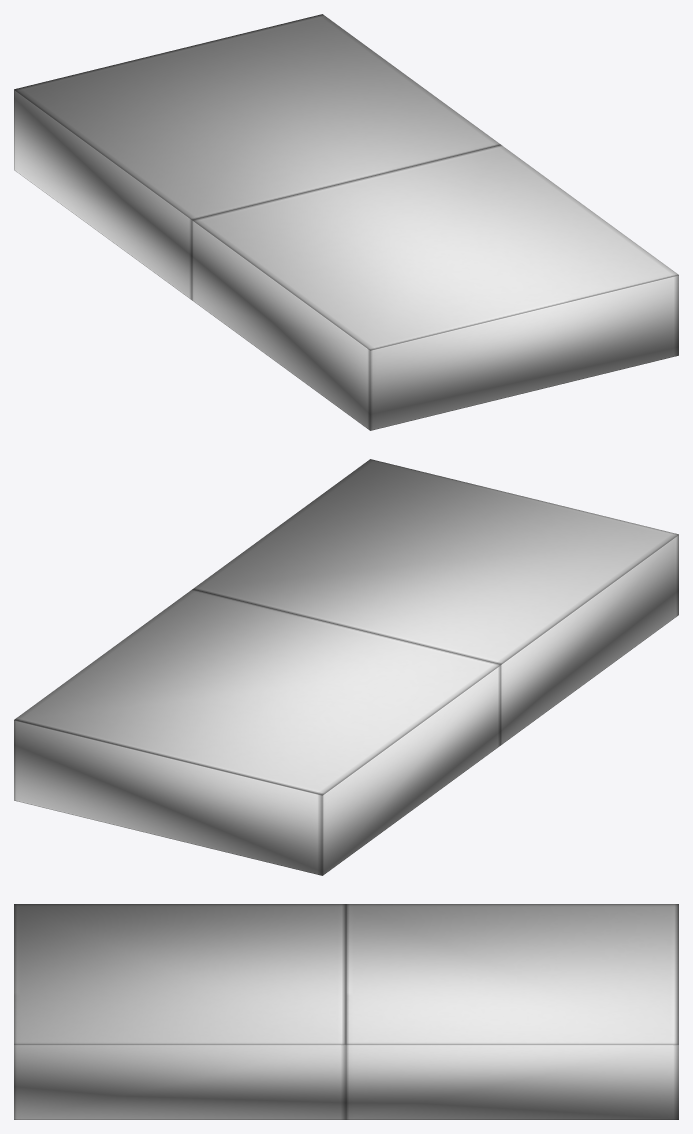
Rendered from Floor-02.fbx.
3 renders of one model, top to bottom at view 1: azimuth 30°, elevation 25°; view 2: azimuth 150°, elevation 25°; view 3: azimuth 270°, elevation 25°, orthographic. The views are drawn at different scales.
Parts seen in each view (by area): view 1: Floor-02; view 2: Floor-02; view 3: Floor-02.
Part boxes in pixels (bbox=[...]): Floor-02: bbox=[14, 14, 678, 430]; Floor-02: bbox=[14, 459, 678, 875]; Floor-02: bbox=[14, 904, 678, 1119].
Bounding box in the file's own units: 1 × 0.25 × 2.
